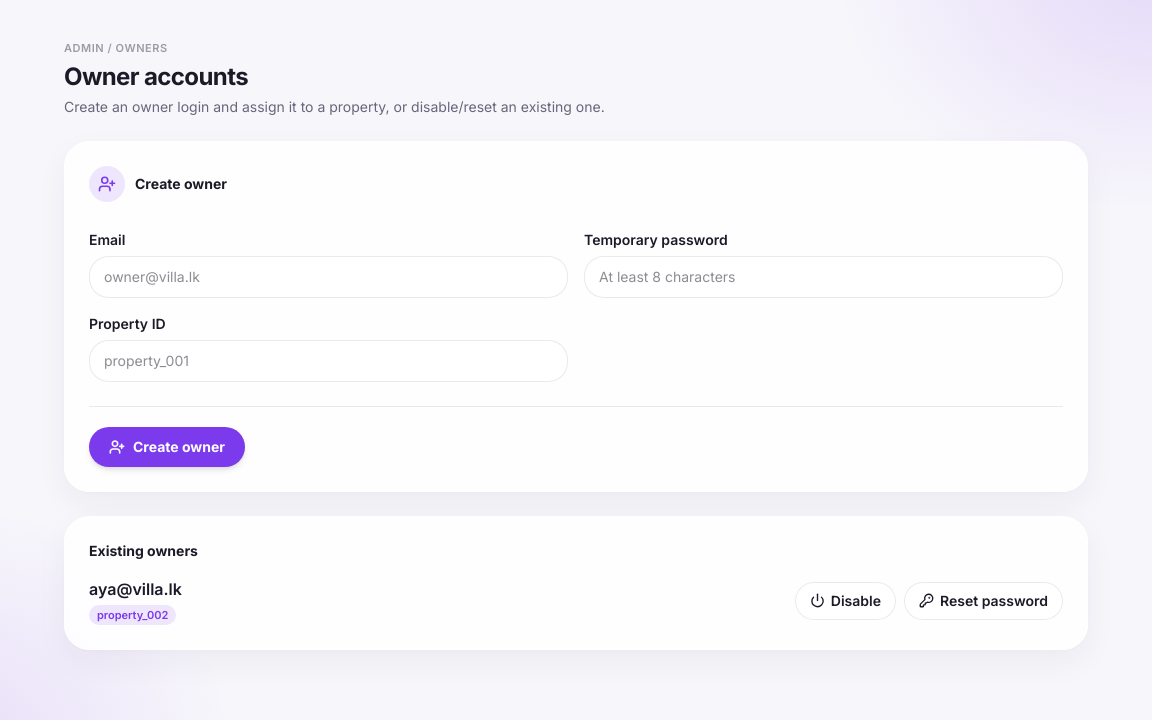
Test: AdminOwners › disables an owner via the row action
Click the button "Disable" at coordinates (845, 601), box [795,582,896,620]
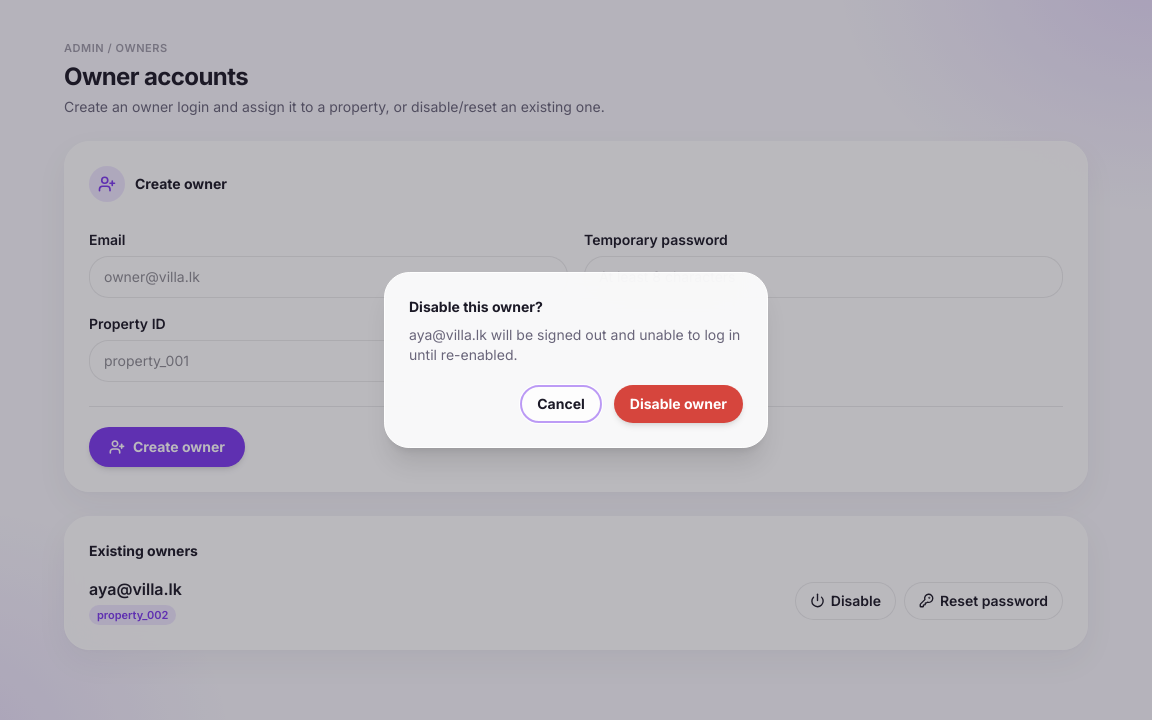
Click the button "Disable owner" at coordinates (678, 404), box [614,385,743,423]
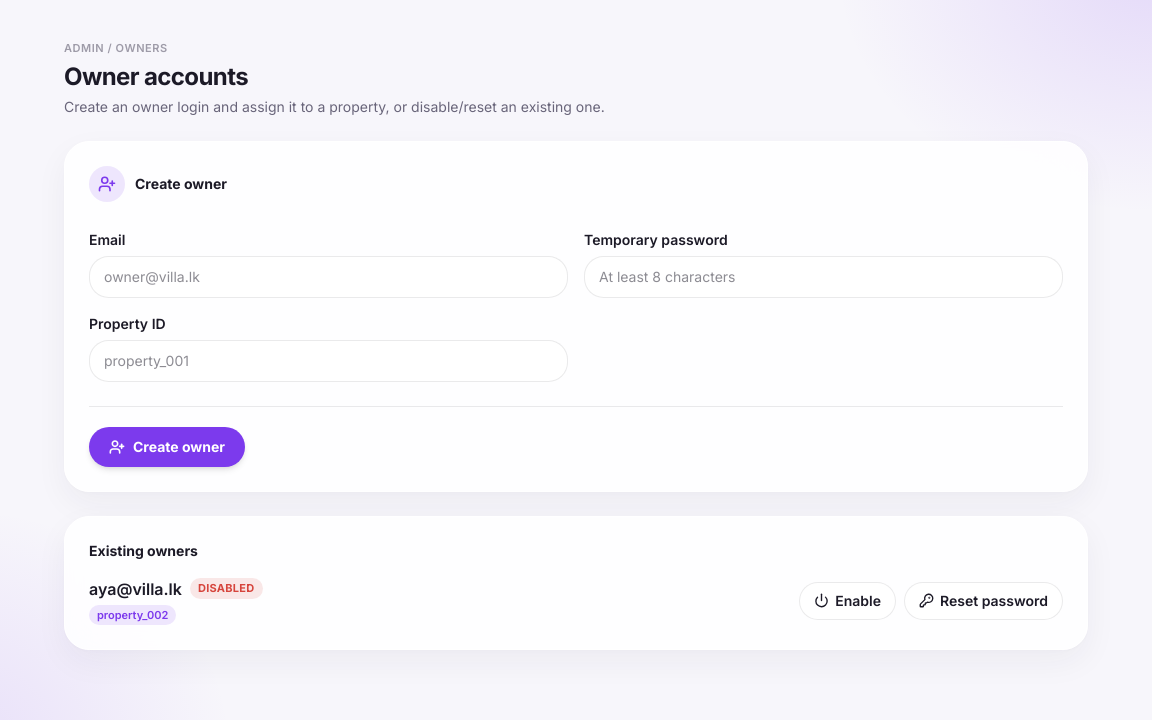
Expected: the text "Disabled" is shown, [190,578,262,599]
